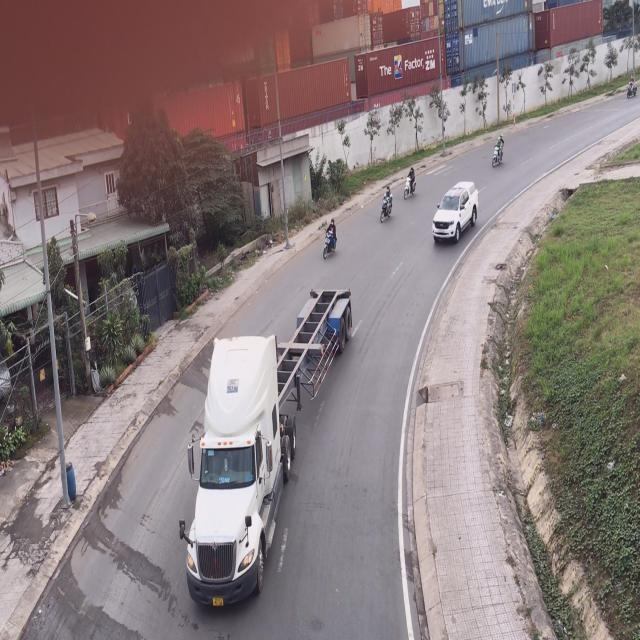car: (432, 182, 477, 246)
motorbike: (322, 216, 338, 261), (381, 186, 395, 227), (490, 135, 505, 171), (406, 165, 419, 202)
truck: (187, 285, 353, 613)
